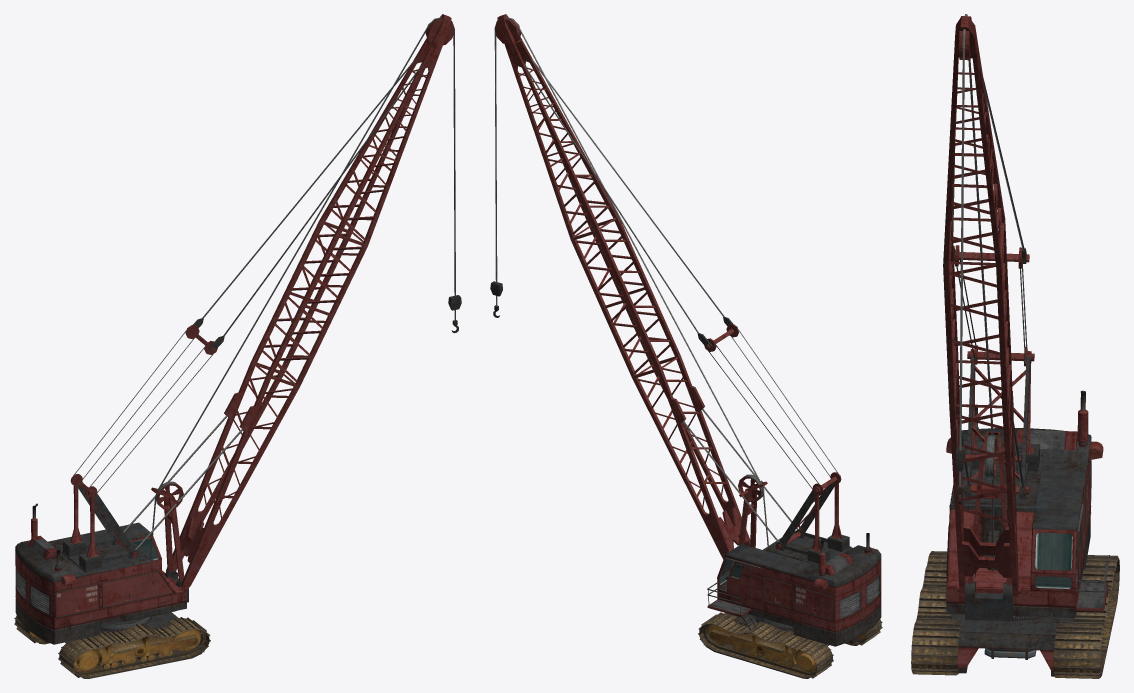
The model's file is WheelCrane (1).fbx.
3 renders of one model, left to right at view 1: azimuth 30°, elevation 25°; view 2: azimuth 150°, elevation 25°; view 3: azimuth 270°, elevation 25°, orthographic. The views are drawn at different scales.
Visible parts, largest first — view 1: Crane_Tower_Small, chains, wheels; view 2: Crane_Tower_Small, chains, wheels; view 3: Crane_Tower_Small, chains.
Part boxes in pixels (left/top/right/bottom): Crane_Tower_Small: left=15, top=14, right=461, bottom=644; chains: left=14, top=616, right=210, bottom=678; wheels: left=30, top=629, right=201, bottom=671; Crane_Tower_Small: left=490, top=14, right=881, bottom=646; chains: left=698, top=612, right=882, bottom=678; wheels: left=707, top=624, right=865, bottom=672; Crane_Tower_Small: left=943, top=14, right=1109, bottom=676; chains: left=911, top=551, right=1119, bottom=678.
Bounding box in the file's own units: 2775 × 3658 × 811.
5 materials, 5 textured.
